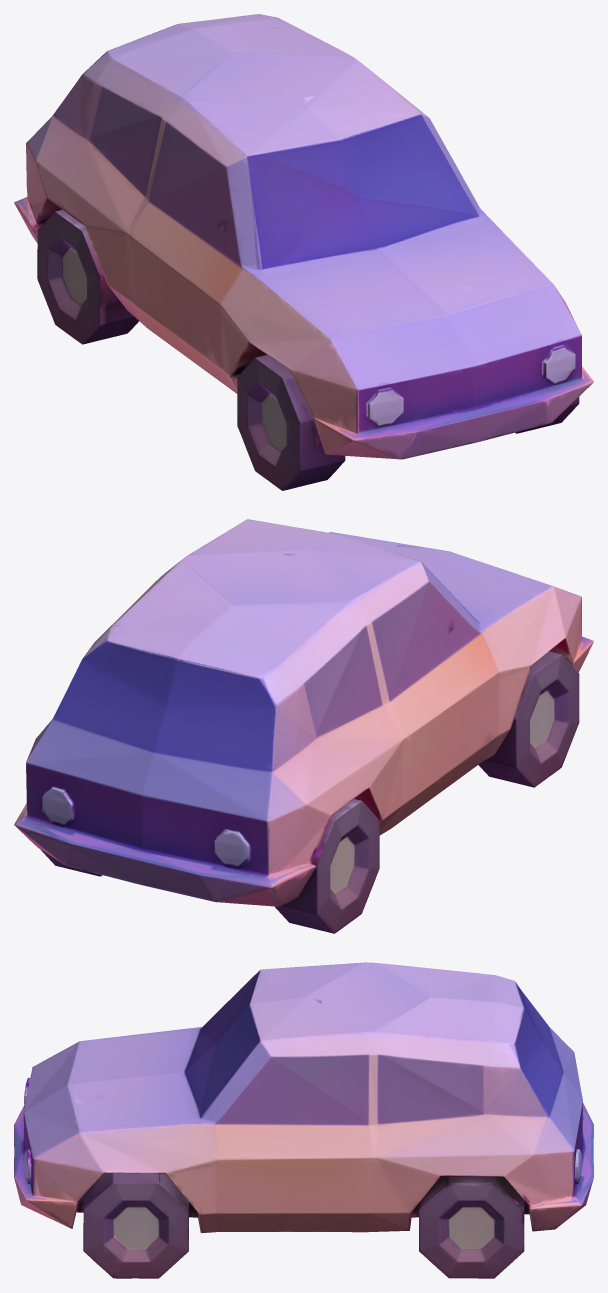
The model's file is car1.fbx.
3 views of the same model, one above another, from view 1: azimuth 30°, elevation 25°; view 2: azimuth 150°, elevation 25°; view 3: azimuth 270°, elevation 25° (orthographic). The views are drawn at different scales.
Parts seen in each view (by area): view 1: node_0; view 2: node_0; view 3: node_0.
Boxes of the visible parts, x1=… form: node_0: x1=14, y1=14, x2=593, y2=490; node_0: x1=14, y1=519, x2=593, y2=933; node_0: x1=14, y1=962, x2=593, y2=1278.
Size of the model in its own units: 53.89 by 48.11 by 113.
Materials: 1 (1 with a texture image).
